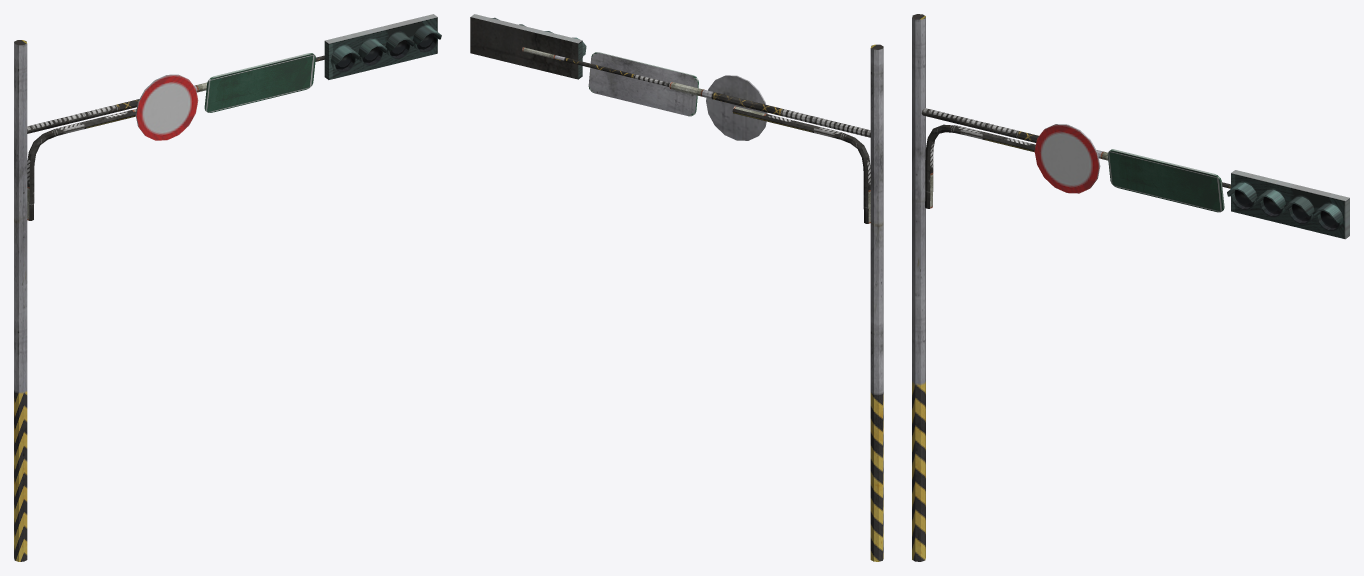
Rendered from traffic.glb.
3 renders of one model, left to right at view 1: azimuth 30°, elevation 25°; view 2: azimuth 150°, elevation 25°; view 3: azimuth 330°, elevation 25°, orthographic. The views are drawn at different scales.
Visible parts, largest first — view 1: s_light_1, s_light_2; view 2: s_light_1, s_light_2; view 3: s_light_1, s_light_2.
Boxes of the visible parts, <box> form: s_light_1: <box>14,14,441,561</box>; s_light_2: <box>27,55,324,220</box>; s_light_1: <box>470,14,883,561</box>; s_light_2: <box>522,47,870,223</box>; s_light_1: <box>912,14,1349,561</box>; s_light_2: <box>921,108,1230,208</box>.
Size of the model in its own units: 139 by 164 by 9.37.
1 material, 1 textured.
